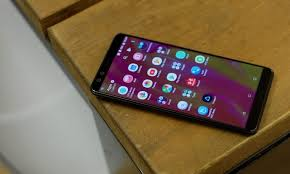htc: (86, 29, 274, 135)
